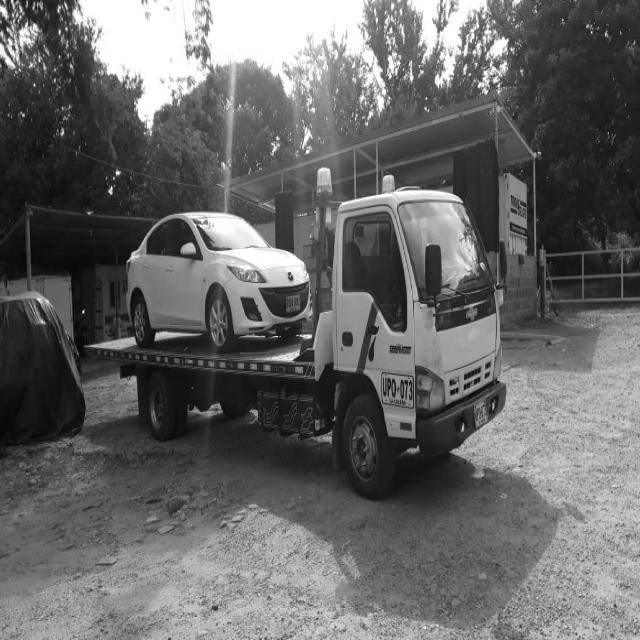plate: (284, 292, 302, 317)
